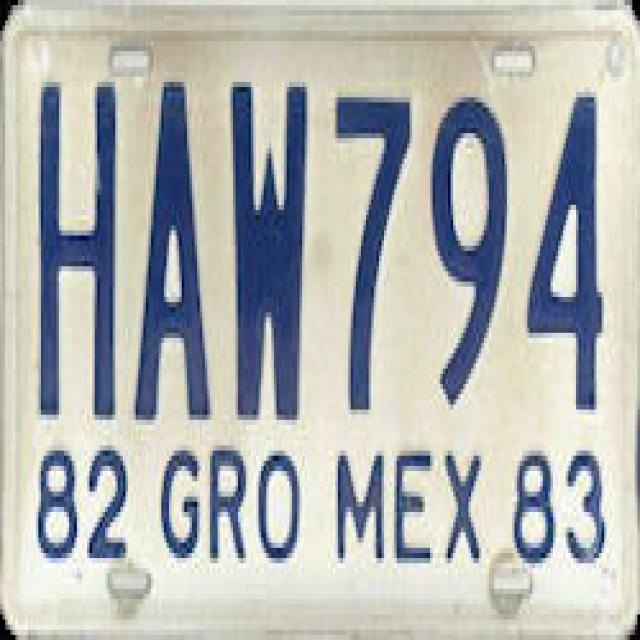placa: (7, 66, 636, 431)
